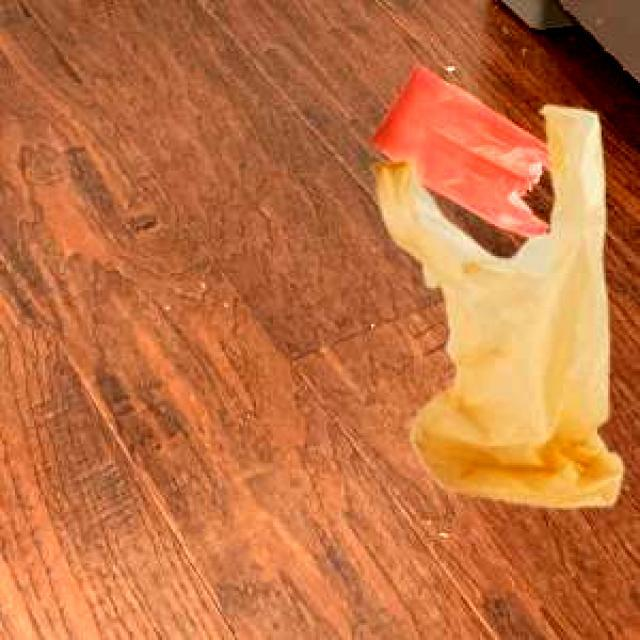Plastic_Bag: (368, 102, 620, 504), (368, 61, 549, 236)
